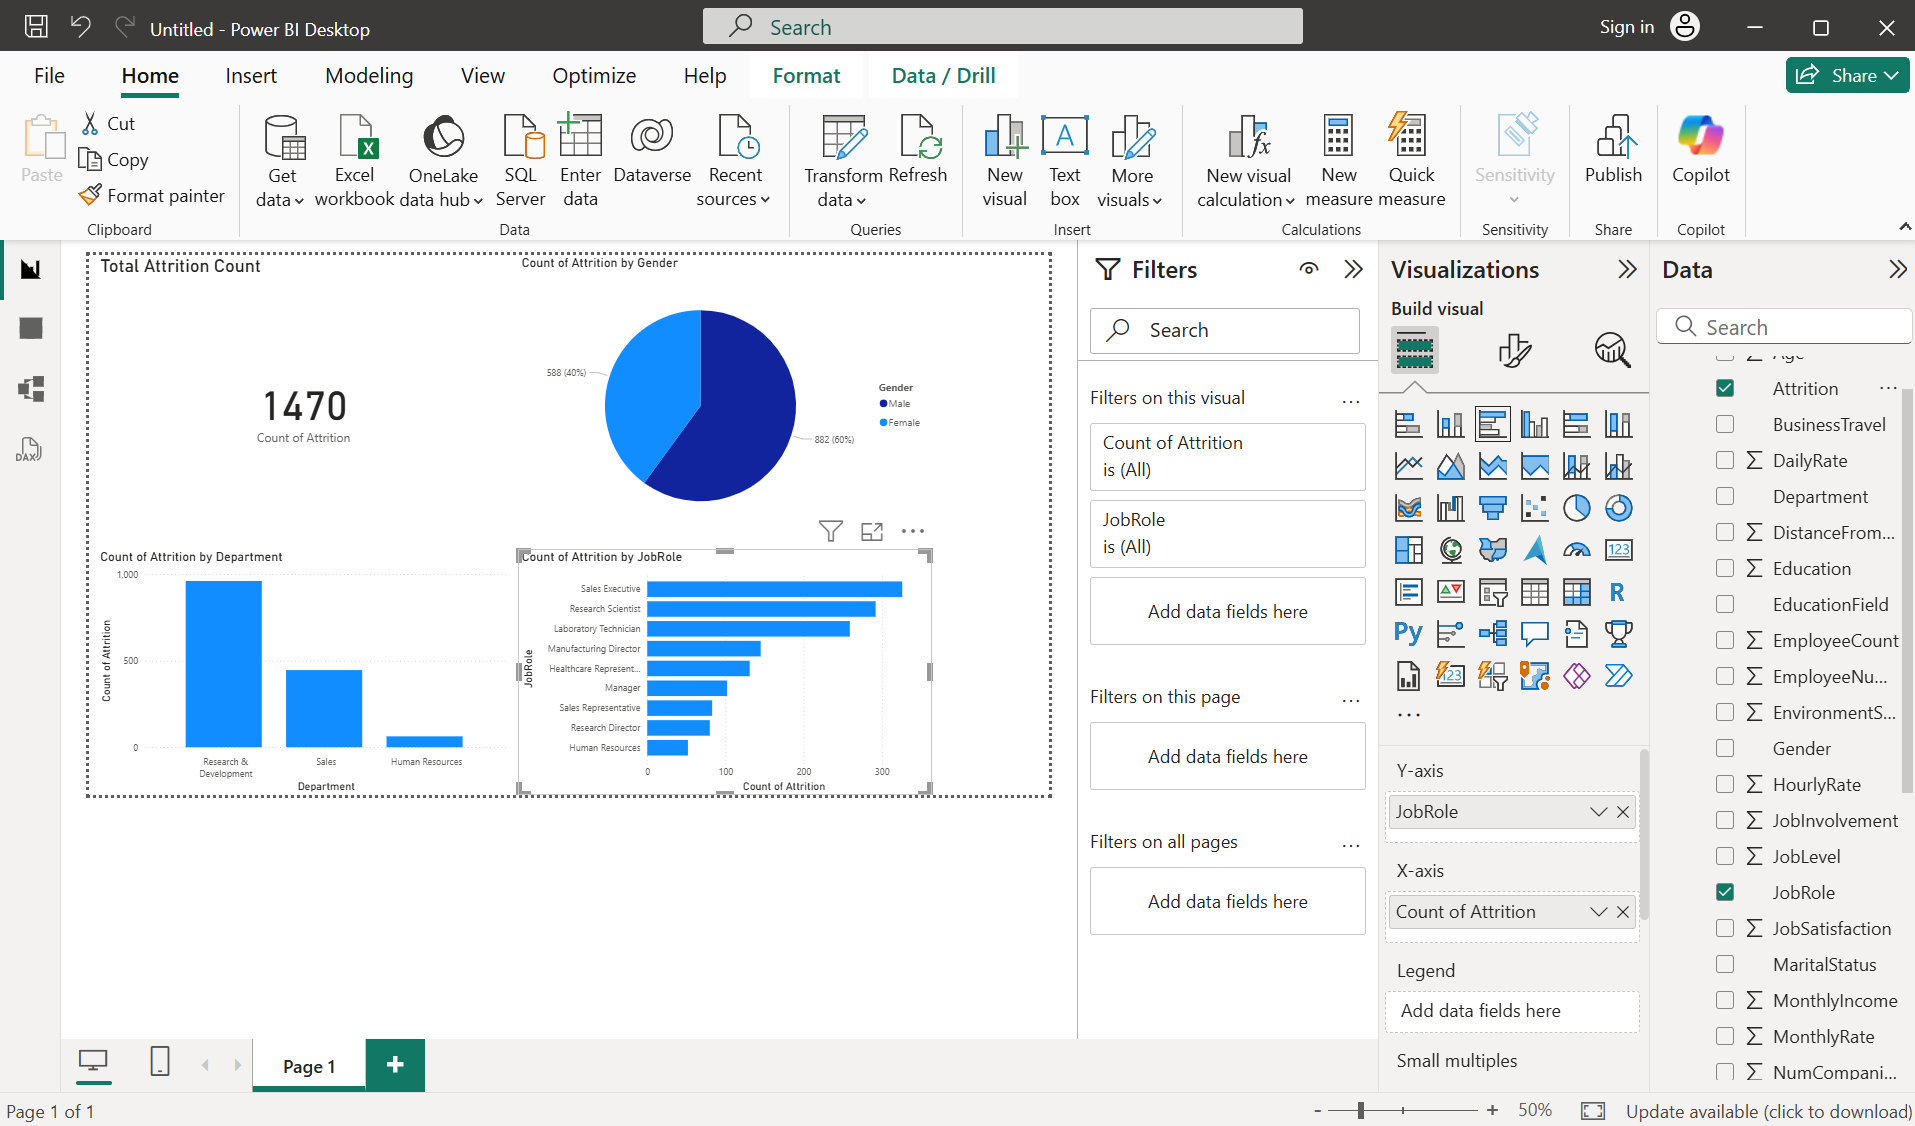

This screenshot's page, from the dashboard's own definition file:
{"tool":"powerbi","page":{"name":"Page 1","canvas":[1280,720],"ordinal":0},"visuals":[{"type":"card","title":"Total Attrition Count","fields":{"Values":["CountNonNull(HR_Employee_Attrition csv.Attrition)"]},"box":[10,0,342,252],"z":0},{"type":"clusteredColumnChart","fields":{"Category":["HR_Employee_Attrition csv.Department"],"Y":["CountNonNull(HR_Employee_Attrition csv.Attrition)"]},"box":[0,266,428,328],"z":1},{"type":"pieChart","fields":{"Category":["HR_Employee_Attrition csv.Gender"],"Y":["CountNonNull(HR_Employee_Attrition csv.Attrition)"]},"box":[352,0,552,252],"z":2},{"type":"clusteredBarChart","fields":{"Category":["HR_Employee_Attrition csv.JobRole"],"Y":["CountNonNull(HR_Employee_Attrition csv.Attrition)"]},"box":[468,266,472,328],"z":3},{"type":"clusteredColumnChart","fields":{"Category":["HR_Employee_Attrition csv.Department"],"Y":["Avg(HR_Employee_Attrition csv.MonthlyIncome)"]},"box":[904,0,376,252],"z":4}]}

Visuals, with their boxes on the page's 1280x720 design canvas (x1, y1, x2, y2). These are canvas units, not pixel positions in the 1915x1126 screenshot, which may show the page scaled, cropped or inside an application window:
"Total Attrition Count" card: rect(10, 0, 352, 252)
clusteredColumnChart - HR_Employee_Attrition csv.Department x CountNonNull(HR_Employee_Attrition csv.Attrition): rect(0, 266, 428, 594)
pieChart - HR_Employee_Attrition csv.Gender x CountNonNull(HR_Employee_Attrition csv.Attrition): rect(352, 0, 904, 252)
clusteredBarChart - HR_Employee_Attrition csv.JobRole x CountNonNull(HR_Employee_Attrition csv.Attrition): rect(468, 266, 940, 594)
clusteredColumnChart - HR_Employee_Attrition csv.Department x Avg(HR_Employee_Attrition csv.MonthlyIncome): rect(904, 0, 1280, 252)
